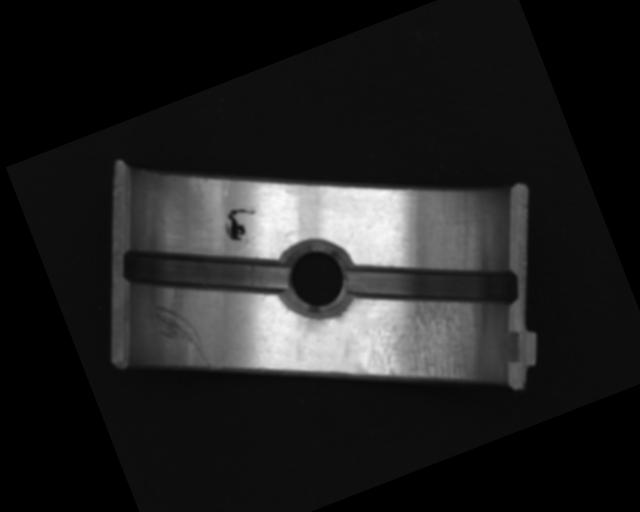blot: (218, 200, 264, 245)
gap: (342, 213, 529, 357), (113, 197, 296, 343)
hole: (270, 231, 362, 324)
nick: (143, 290, 212, 383)
scratch: (345, 291, 481, 415)
